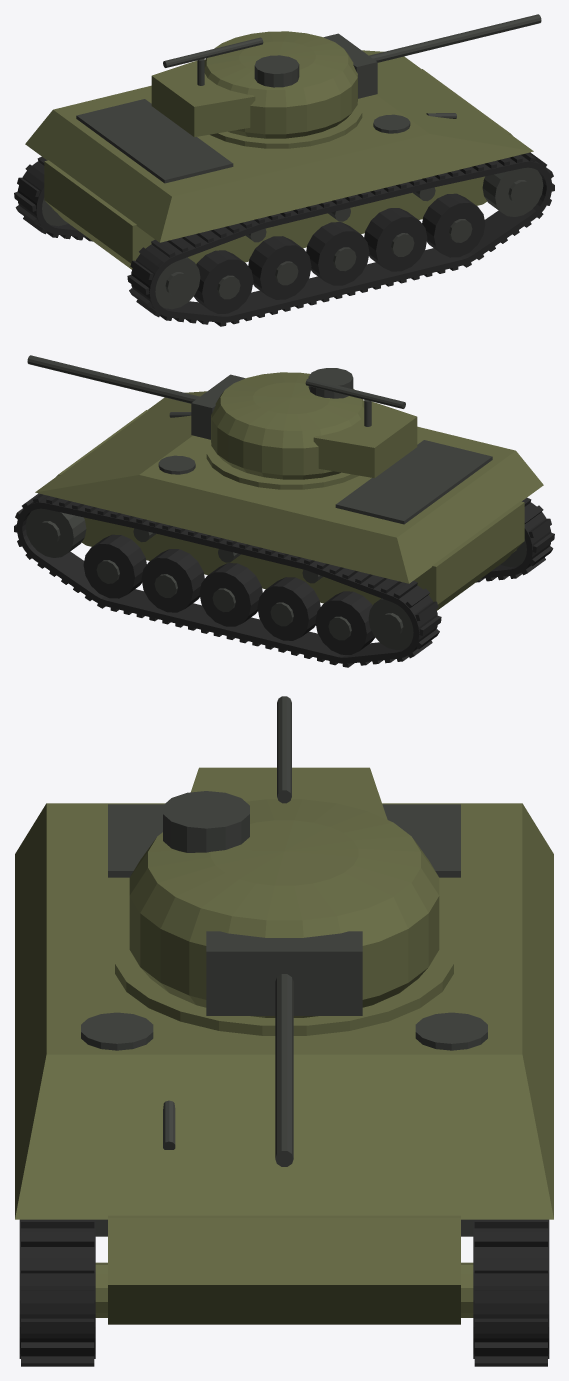
Rendered from us_m24_chaffee.obj.
The picture shows the model from 3 angles, top to bottom: view 1: azimuth 30°, elevation 25°; view 2: azimuth 150°, elevation 25°; view 3: azimuth 270°, elevation 25°; orthographic projection. The views are drawn at different scales.
Size of the model in its own units: 5.71 by 2.56 by 2.9.
